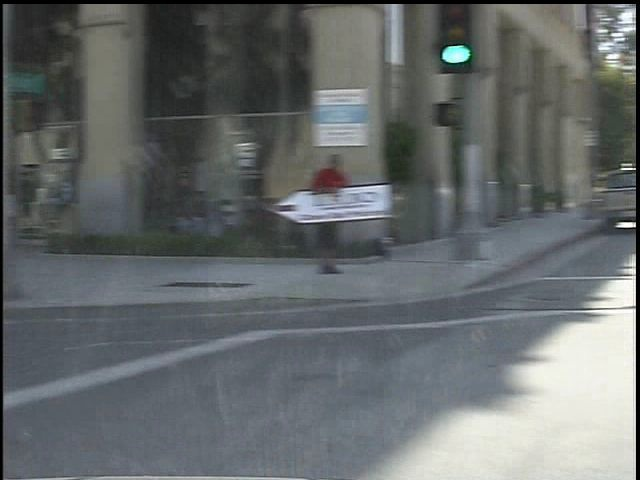person: (298, 142, 341, 277)
